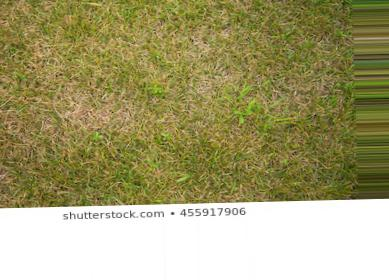patch: (38, 86, 160, 130)
